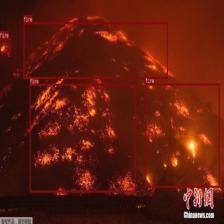fire: (30, 83, 136, 192), (23, 22, 168, 78), (145, 83, 220, 188), (0, 38, 10, 53)
